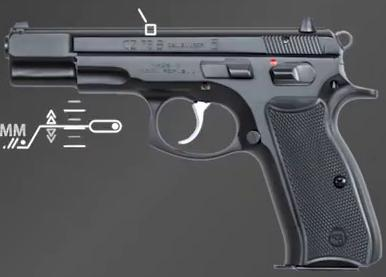gun: (1, 1, 386, 277)
